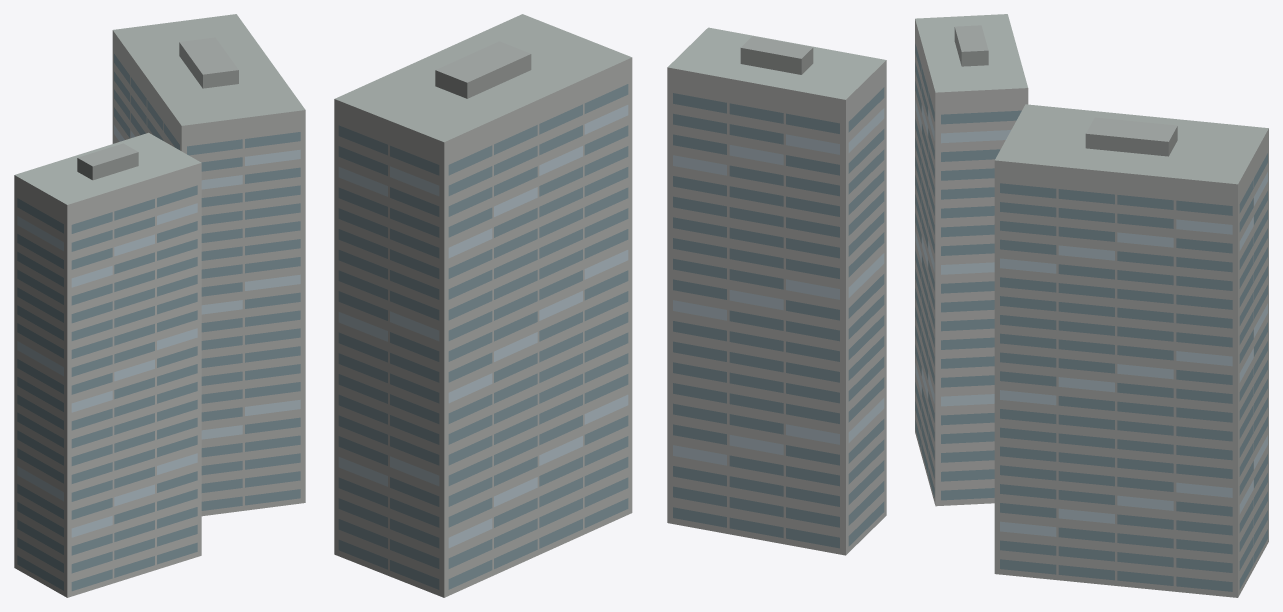
The model's file is apt-a10022801.glb.
The picture shows the model from 3 angles, left to right: view 1: azimuth 30°, elevation 25°; view 2: azimuth 150°, elevation 25°; view 3: azimuth 270°, elevation 25°; orthographic projection. The views are drawn at different scales.
Parts seen in each view (by area): view 1: apt-a10022801; view 2: apt-a10022801; view 3: apt-a10022801.
Part boxes in pixels (bbox=[...]): apt-a10022801: bbox=[14, 14, 305, 597]; apt-a10022801: bbox=[334, 14, 886, 597]; apt-a10022801: bbox=[915, 14, 1268, 597].
Bounding box in the file's own units: 59.71 × 70 × 52.42.
